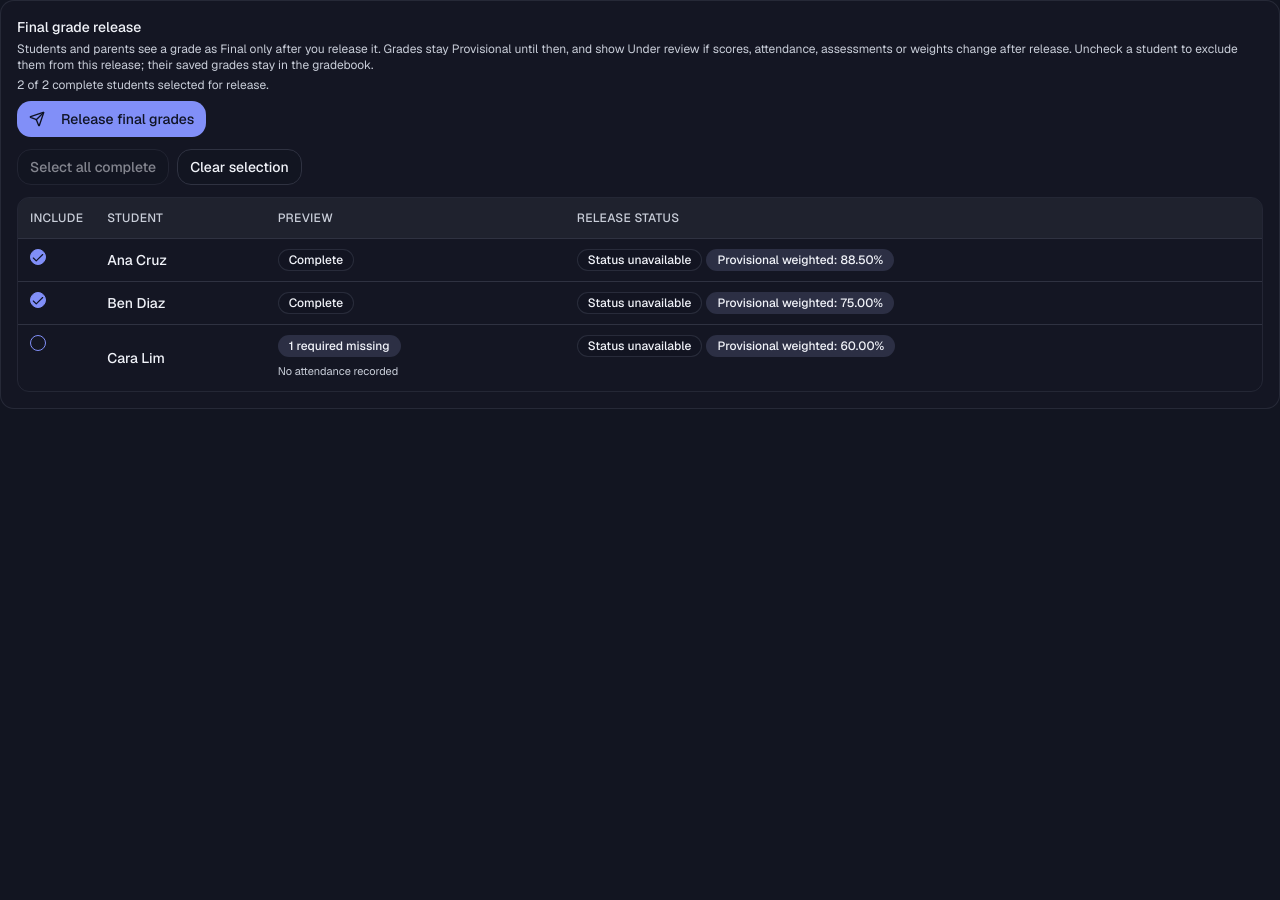
Test: FinalGradeReleasePanel › 409: shows the conflict, no success, no automatic retry
Click the button "Release final grades": coordinates (112, 119) [17, 101, 206, 137]
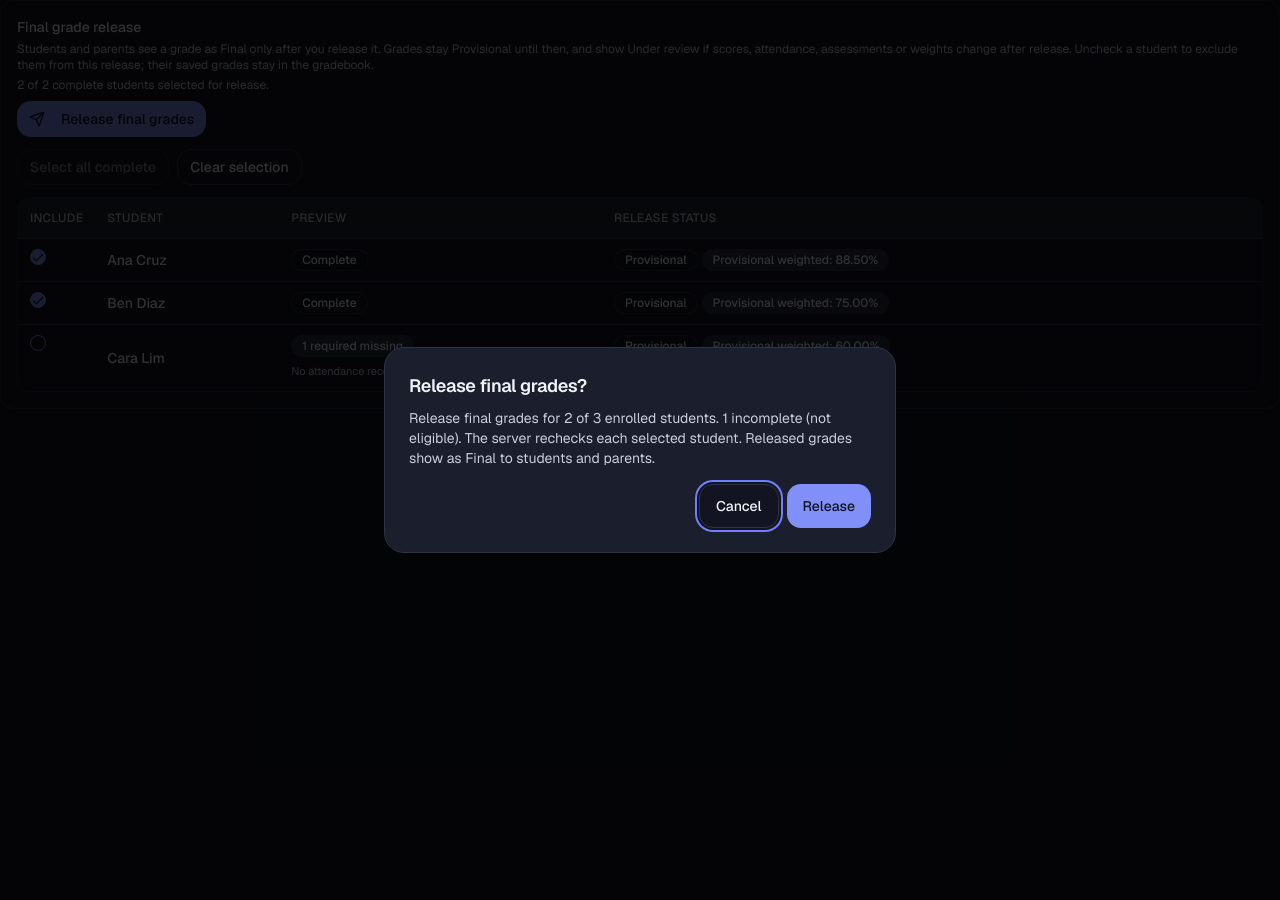
Expected: the text "Release final grades for 2 of 3 enrolled students" is shown, [409, 409, 852, 467]
Click the button "Release": coordinates (829, 506) [786, 484, 871, 528]
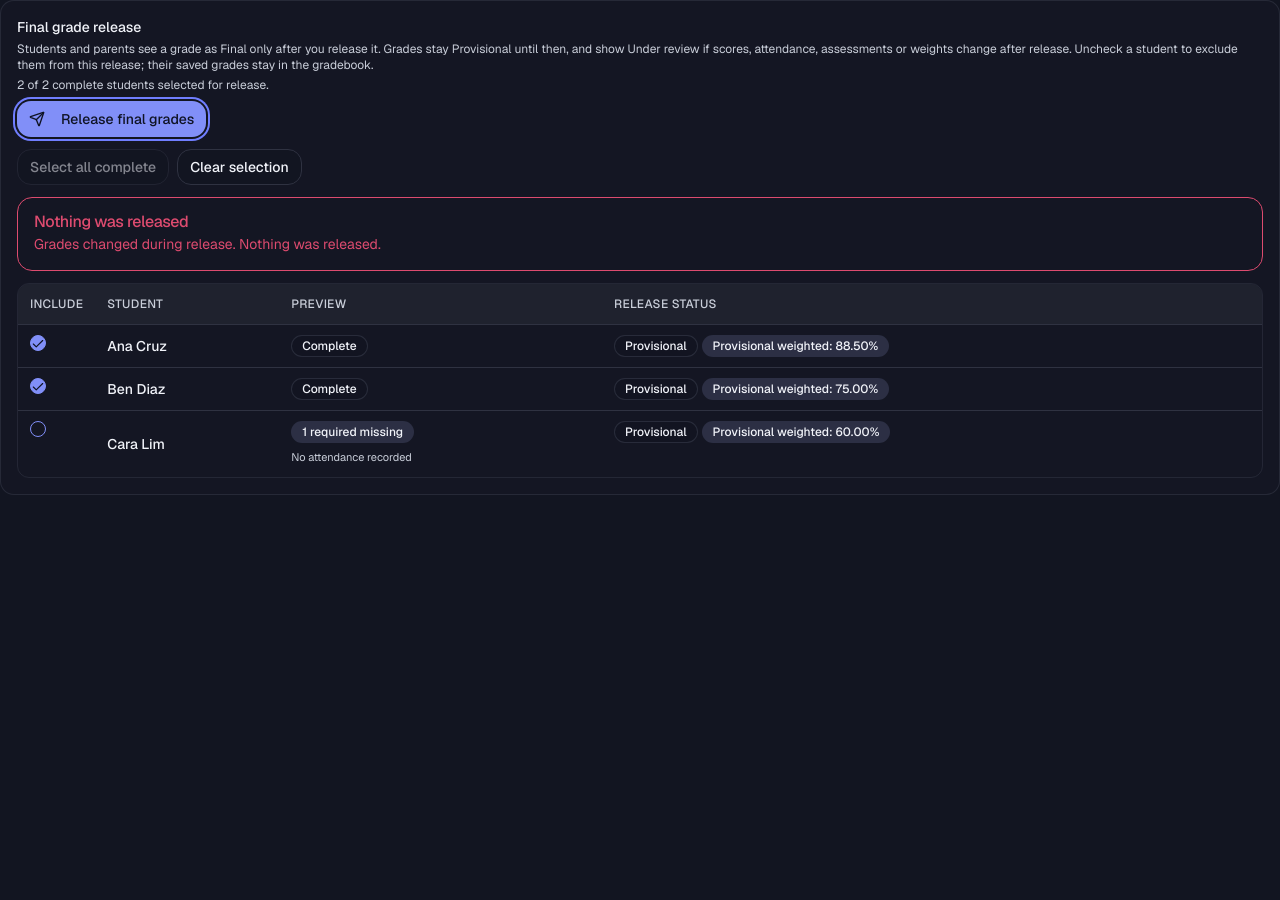
Expected: the heading "Nothing was released" is shown, [34, 211, 188, 232]
Expected: the text "Grades changed during release. Nothing was released." is shown, [34, 235, 381, 253]
